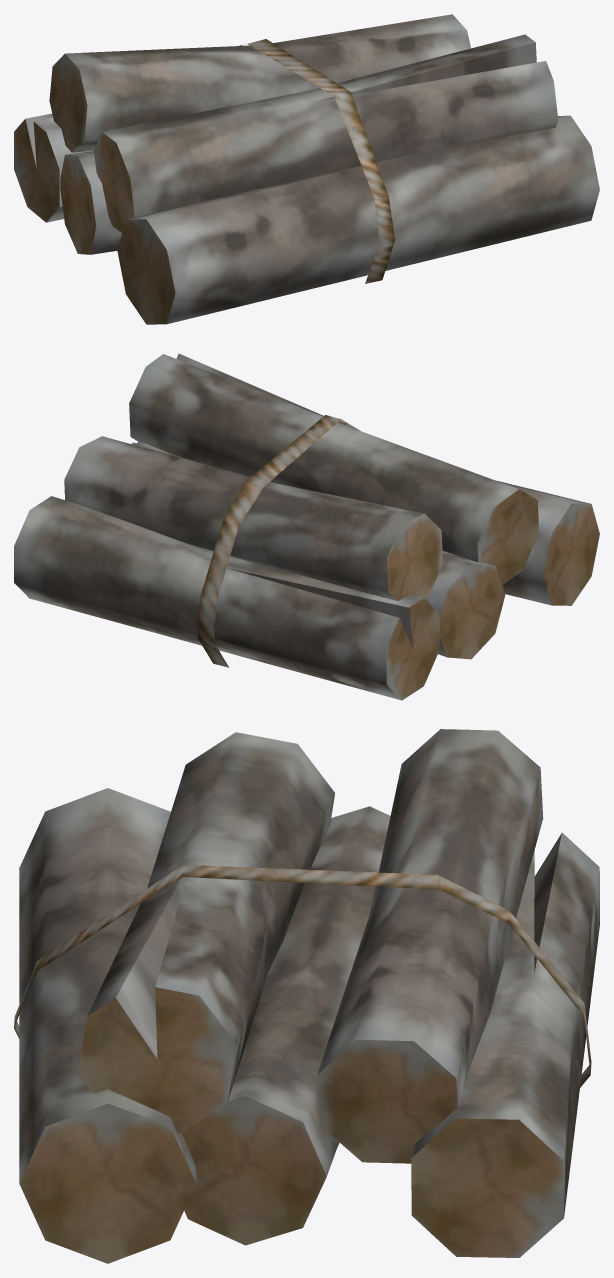
Rendered from snow_a_r04.fbx.
The picture shows the model from 3 angles, top to bottom: view 1: azimuth 30°, elevation 25°; view 2: azimuth 150°, elevation 25°; view 3: azimuth 270°, elevation 25°; orthographic projection. The views are drawn at different scales.
Visible parts, largest first — view 1: snow_a_r04; view 2: snow_a_r04; view 3: snow_a_r04.
Part boxes in pixels (left/top/right/bottom): snow_a_r04: left=14, top=14, right=599, bottom=324; snow_a_r04: left=14, top=353, right=599, bottom=700; snow_a_r04: left=14, top=729, right=599, bottom=1263.
Bounding box in the file's own units: 103 × 42 × 80.63.
